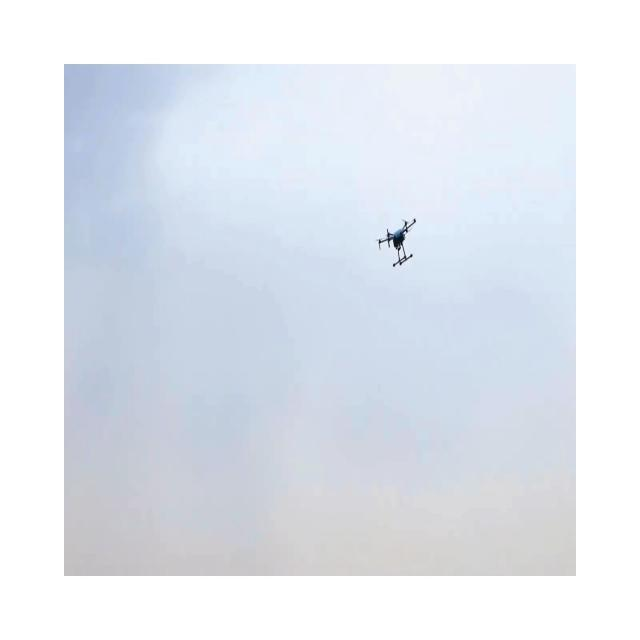drone: (376, 217, 416, 267)
